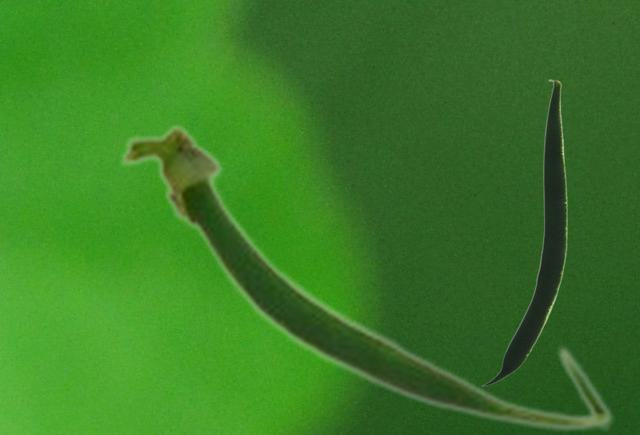french_bean: (117, 120, 614, 433), (482, 79, 566, 385)
